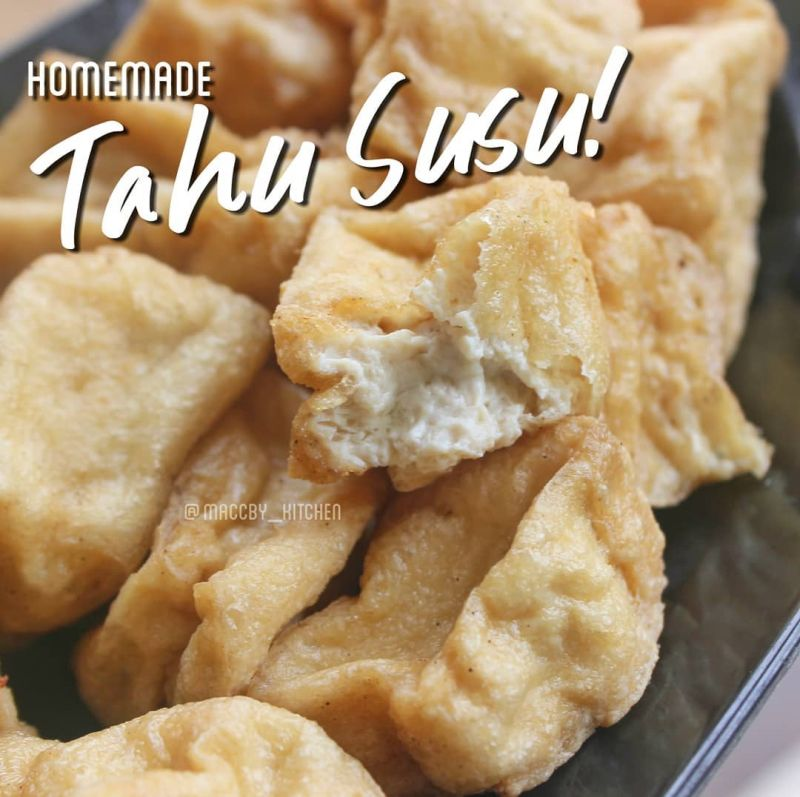Tahu: (253, 422, 671, 749), (1, 249, 271, 624), (1, 647, 379, 794)
